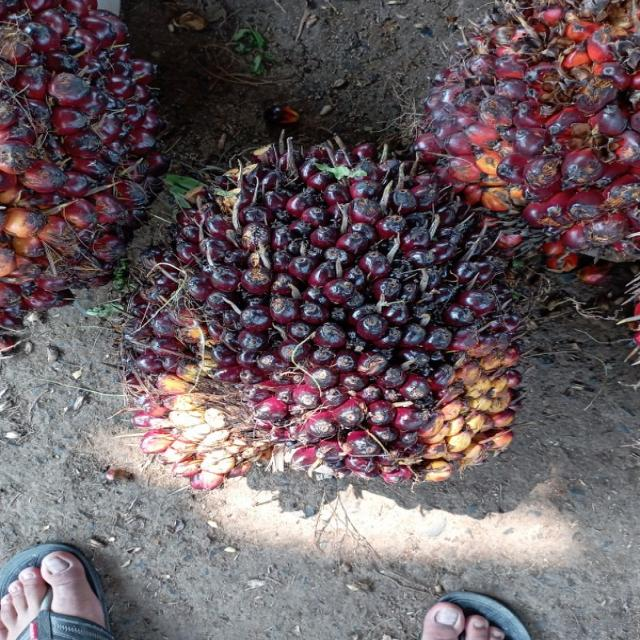fraksi 1: (133, 141, 518, 489)
fraksi 3: (428, 0, 639, 274)
